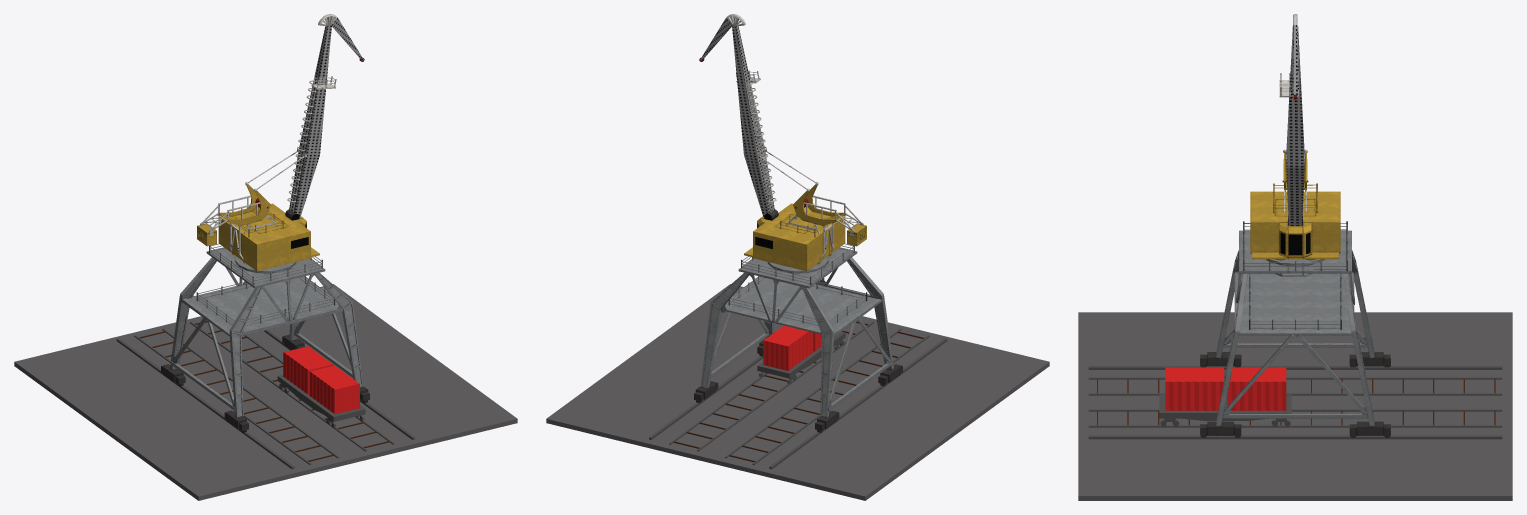
The model's file is ganz_5.glb.
3 renders of one model, left to right at view 1: azimuth 30°, elevation 25°; view 2: azimuth 150°, elevation 25°; view 3: azimuth 270°, elevation 25°, orthographic. The views are drawn at different scales.
Visible parts, largest first — view 1: Cube.031, Cylinder.009, Cube.025, Cube.009, контейнер, рельсы лоя вагонетки.001, контенер 001, рельсы для крана, рельсы лоя вагонетки, вагонетка; view 2: Cube.031, Cylinder.009, Cube.025, Cube.009, контенер 001, рельсы лоя вагонетки.001, рельсы для крана, рельсы лоя вагонетки, вагонетка; view 3: Cube.031, Cylinder.009, Cube.025, рельсы для крана, Cube.009, контейнер, контенер 001, рельсы лоя вагонетки, рельсы лоя вагонетки.001, вагонетка.
Boxes of the visible parts, x1=… form: Cube.031: x1=14, y1=284, x2=517, y2=500; Cylinder.009: x1=161, y1=257, x2=369, y2=432; Cube.025: x1=197, y1=149, x2=325, y2=288; Cube.009: x1=285, y1=14, x2=364, y2=220; контейнер: x1=309, y1=365, x2=359, y2=414; рельсы лоя вагонетки.001: x1=134, y1=328, x2=338, y2=464; контенер 001: x1=283, y1=346, x2=333, y2=394; рельсы для крана: x1=116, y1=330, x2=414, y2=469; рельсы лоя вагонетки: x1=190, y1=321, x2=394, y2=451; вагонетка: x1=277, y1=374, x2=365, y2=427; Cube.031: x1=546, y1=284, x2=1049, y2=500; Cylinder.009: x1=694, y1=257, x2=902, y2=432; Cube.025: x1=738, y1=149, x2=866, y2=288; Cube.009: x1=699, y1=14, x2=778, y2=220; контенер 001: x1=763, y1=325, x2=813, y2=370; рельсы лоя вагонетки.001: x1=725, y1=328, x2=929, y2=464; рельсы для крана: x1=649, y1=338, x2=947, y2=469; рельсы лоя вагонетки: x1=669, y1=321, x2=873, y2=451; вагонетка: x1=757, y1=331, x2=845, y2=384; Cube.031: x1=1078, y1=312, x2=1512, y2=500; Cylinder.009: x1=1200, y1=250, x2=1390, y2=437; Cube.025: x1=1239, y1=149, x2=1351, y2=276; рельсы для крана: x1=1088, y1=366, x2=1502, y2=439; Cube.009: x1=1279, y1=14, x2=1304, y2=225; контейнер: x1=1165, y1=367, x2=1224, y2=410; контенер 001: x1=1227, y1=367, x2=1286, y2=410; рельсы лоя вагонетки: x1=1088, y1=409, x2=1502, y2=427; рельсы лоя вагонетки.001: x1=1088, y1=377, x2=1502, y2=395; вагонетка: x1=1159, y1=394, x2=1291, y2=426.
Size of the model in its own units: 28.99 by 31.65 by 28.99.
Materials: 7 (3 with a texture image).
